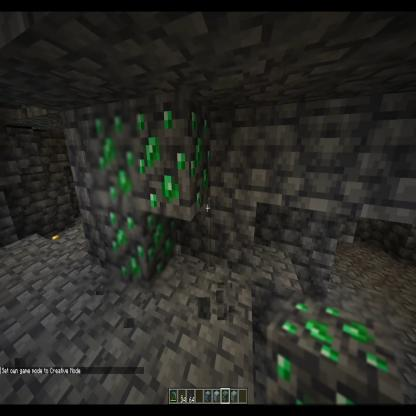emerald ore: (264, 292, 404, 408), (129, 97, 216, 216), (108, 207, 176, 293), (90, 104, 140, 214)
